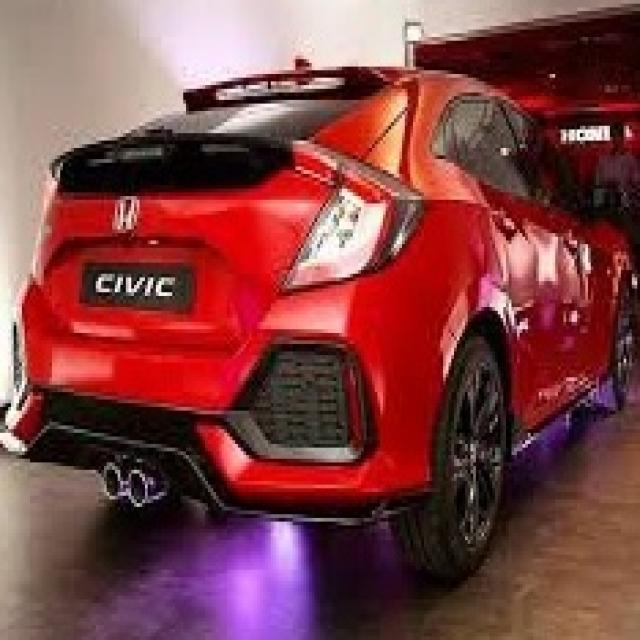red: (11, 43, 640, 509)
